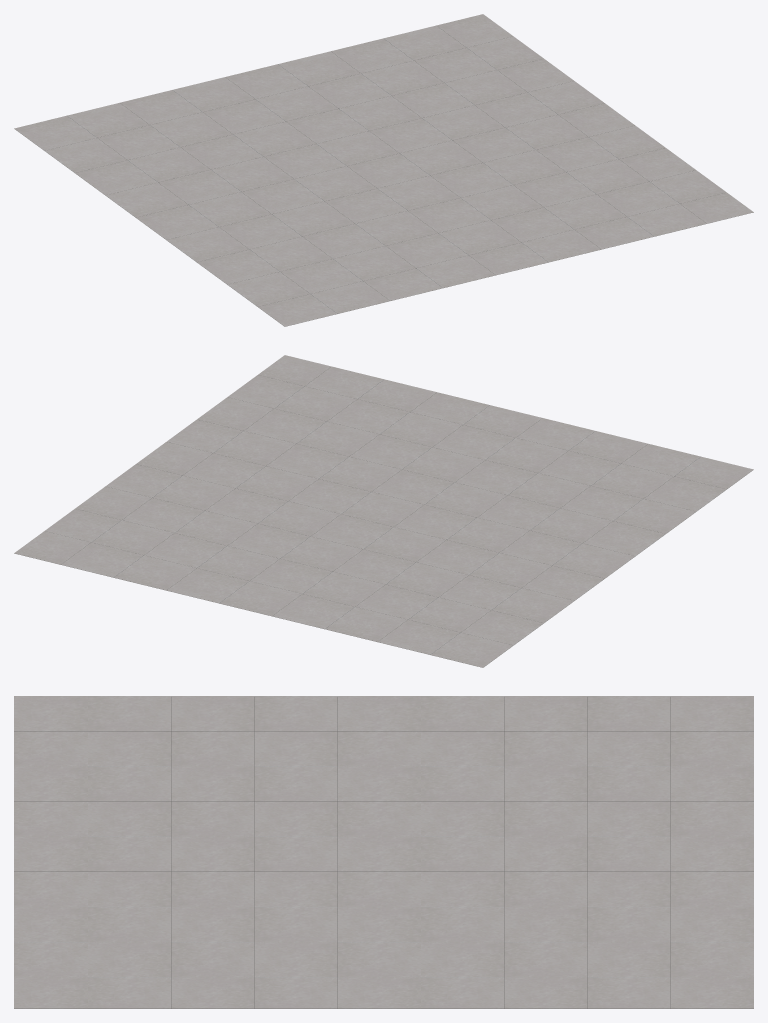
Rendered from marisa-dark-grey-90x90.glb.
3 views of the same model, one above another, from view 1: azimuth 30°, elevation 25°; view 2: azimuth 150°, elevation 25°; view 3: azimuth 270°, elevation 25° (orthographic). The views are drawn at different scales.
Visible parts, largest first — view 1: Marisa Dark Grey; view 2: Marisa Dark Grey; view 3: Marisa Dark Grey.
Boxes of the visible parts, x1=… form: Marisa Dark Grey: x1=14, y1=14, x2=753, y2=326; Marisa Dark Grey: x1=14, y1=355, x2=753, y2=667; Marisa Dark Grey: x1=14, y1=696, x2=753, y2=1008.
Size of the model in its own units: 8 by 0.003 by 8.
2 materials, 1 textured.
